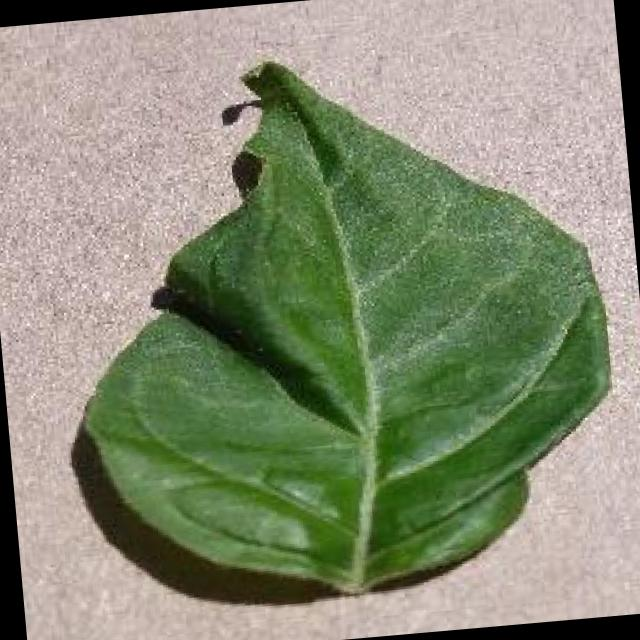Chilli_Healthy: (48, 29, 631, 618)
